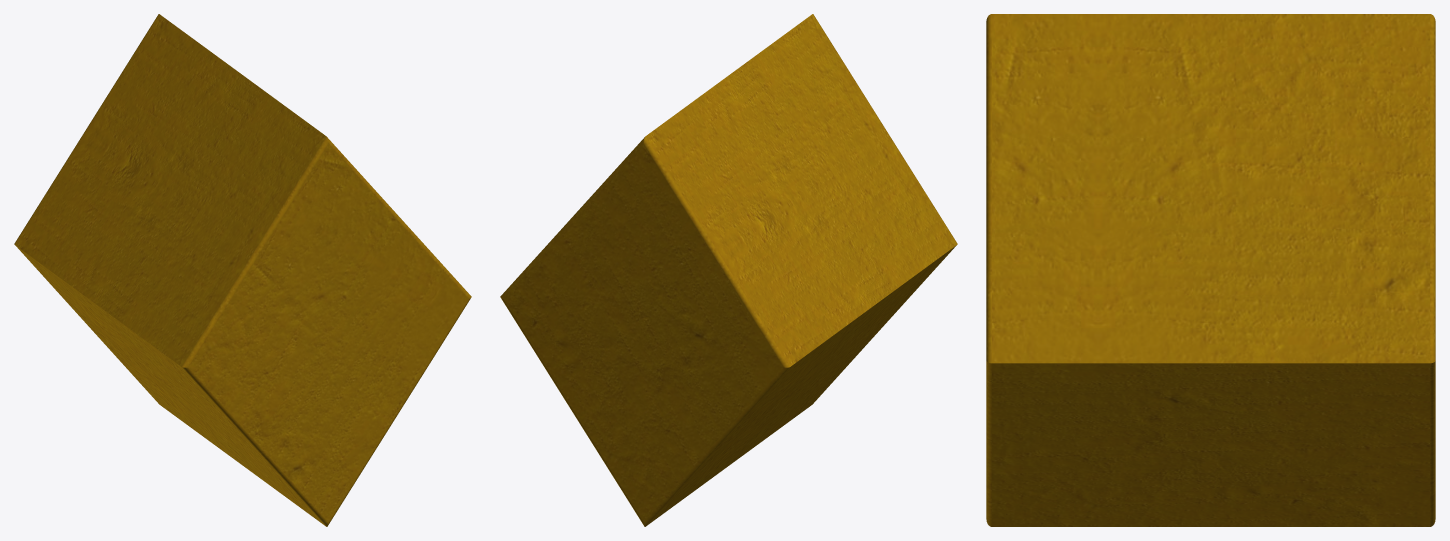
File: diamond.glb
3 views of the same model, side by side, from view 1: azimuth 30°, elevation 25°; view 2: azimuth 150°, elevation 25°; view 3: azimuth 270°, elevation 25° (orthographic). The views are drawn at different scales.
Visible parts, largest first — view 1: diamond_2; view 2: diamond_2; view 3: diamond_2.
Boxes of the visible parts, x1,y1,x2,y2 form: diamond_2: (14, 14, 471, 526); diamond_2: (500, 14, 957, 526); diamond_2: (986, 14, 1435, 526).
Bounding box in the file's own units: 0.0391 × 0.0504 × 0.04.
1 material, 1 textured.
